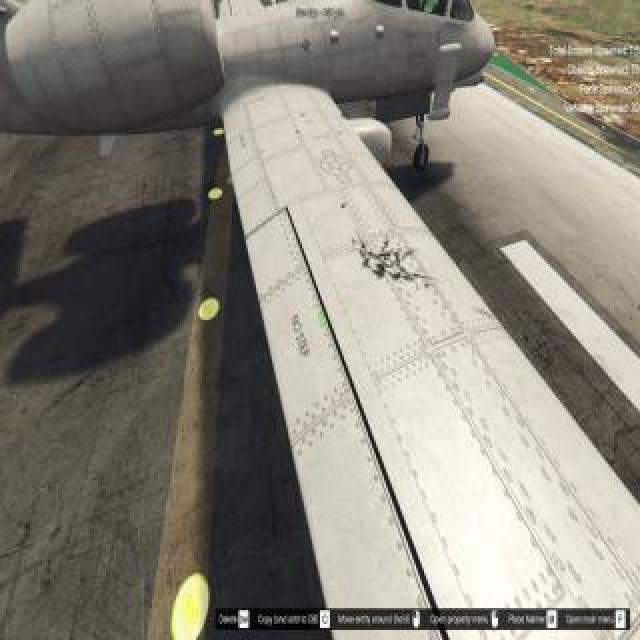crack: (342, 200, 346, 212)
dent: (376, 262, 388, 278), (392, 272, 403, 281)
